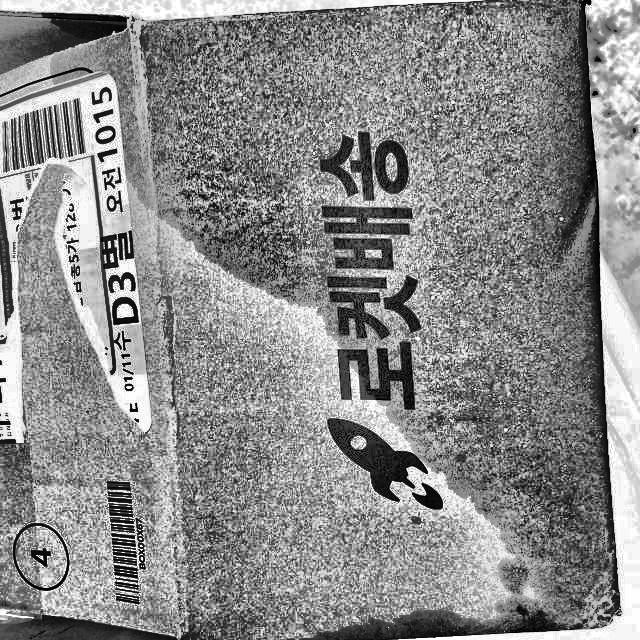box: (0, 0, 635, 639)
wet: (126, 2, 619, 639)
